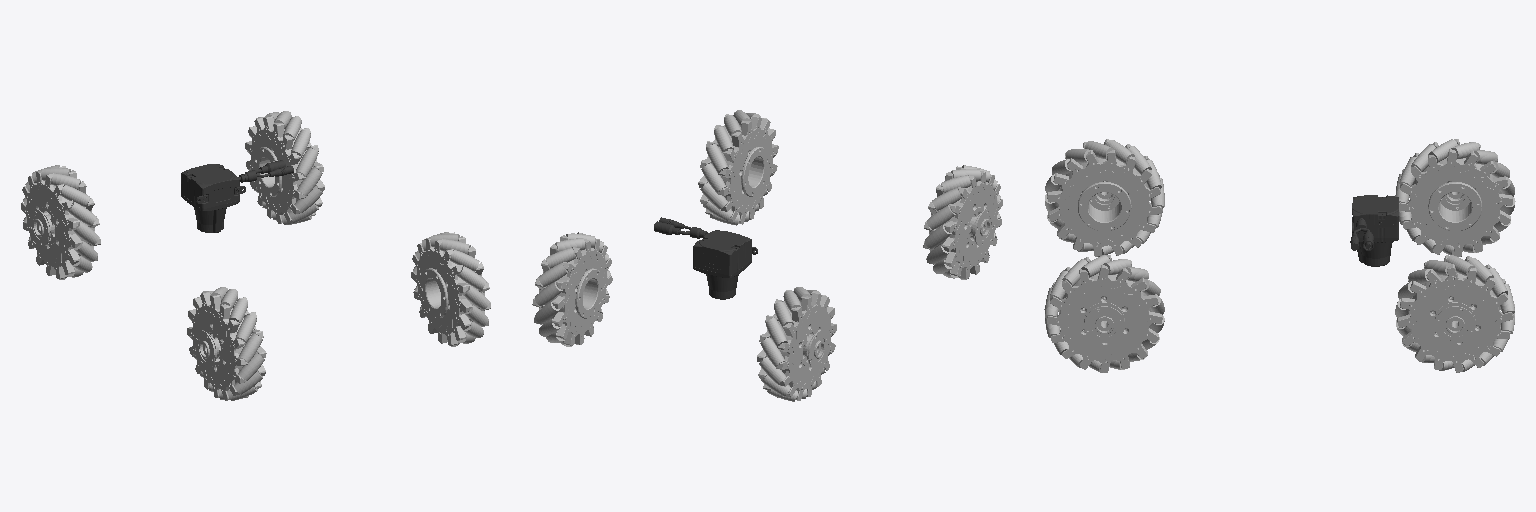
The robot description file, URDF, robot "robot_des":
<?xml version="1.0" encoding="utf-8"?>
<!-- This URDF was automatically created by SolidWorks to URDF Exporter! Originally created by [author] ([email redacted]) 
     Commit Version: 1.6.0-4-g7f85cfe  Build Version: 1.6.7995.38578
     For more information, please see http://wiki.ros.org/sw_urdf_exporter -->
<robot
  name="robot_des">
  
  <link
    name="base_link">
    <inertial>
      <origin
        xyz="-0.000428130552795045 -0.021915627601754 0.2"
        rpy="0 0 0" />
      <mass
        value="4.68126788295179" />
      <inertia
        ixx="0.0145873193919006"
        ixy="-6.80283507311823E-06"
        ixz="3.04984884541059E-07"
        iyy="0.0124505441321933"
        iyz="-1.59907342304969E-06"
        izz="0.0234128160904748" />
    </inertial>
    <visual>
      <origin
        xyz="0 0 0"
        rpy="0 0 0" />
      <geometry>
        <mesh
          filename="package://robot_des/meshes/base_link.STL" />
      </geometry>
      <material
        name="">
        <color
          rgba="0.752941176470588 0.752941176470588 0.752941176470588 1" />
      </material>
    </visual>
    <collision>
      <origin
        xyz="0 0 0"
        rpy="0 0 0" />
      <geometry>
        <mesh
          filename="package://robot_des/meshes/base_link.STL" />
      </geometry>
    </collision>
  </link>
  <link
    name="br_Link">
    <inertial>
      <origin
        xyz="-0.020848 -3.9989E-05 2.0411E-05"
        rpy="0 0 0" />
      <mass
        value="0.56255" />
      <inertia
        ixx="0.00080273"
        ixy="1.1803E-11"
        ixz="-1.5327E-11"
        iyy="0.0004545"
        iyz="-5.0114E-08"
        izz="0.00045447" />
    </inertial>
    <visual>
      <origin
        xyz="0 0 0"
        rpy="0 0 0" />
      <geometry>
        <mesh
          filename="package://robot_des/meshes/br_Link.STL" />
      </geometry>
      <material
        name="">
        <color
          rgba="0.75294 0.75294 0.75294 1" />
      </material>
    </visual>
    <collision>
      <origin
        xyz="0 0 0"
        rpy="0 0 0" />
      <geometry>
        <mesh
          filename="package://robot_des/meshes/br_Link.STL" />
      </geometry>
    </collision>
  </link>
  <joint
    name="br_Joint"
    type="continuous">
    <origin
      xyz="0.196 -0.22435 -0.088559"
      rpy="0 0 0" />
    <parent
      link="base_link" />
    <child
      link="br_Link" />
    <axis
      xyz="-1 0 0" />
  </joint>
  <link
    name="bl_Link">
    <inertial>
      <origin
        xyz="0.020846 7.6231E-06 4.4129E-05"
        rpy="0 0 0" />
      <mass
        value="0.55331" />
      <inertia
        ixx="0.00080295"
        ixy="1.0192E-11"
        ixz="-2.7175E-12"
        iyy="0.00045391"
        iyz="1.078E-08"
        izz="0.00045401" />
    </inertial>
    <visual>
      <origin
        xyz="0 0 0"
        rpy="0 0 0" />
      <geometry>
        <mesh
          filename="package://robot_des/meshes/bl_Link.STL" />
      </geometry>
      <material
        name="">
        <color
          rgba="0.75294 0.75294 0.75294 1" />
      </material>
    </visual>
    <collision>
      <origin
        xyz="0 0 0"
        rpy="0 0 0" />
      <geometry>
        <mesh
          filename="package://robot_des/meshes/bl_Link.STL" />
      </geometry>
    </collision>
  </link>
  <joint
    name="bl_Joint"
    type="continuous">
    <origin
      xyz="-0.1955 -0.22436 -0.088723"
      rpy="0 0 0" />
    <parent
      link="base_link" />
    <child
      link="bl_Link" />
    <axis
      xyz="-1 0 0" />
  </joint>
  <link
    name="fl_Link">
    <inertial>
      <origin
        xyz="0.0208481813735867 3.99885874501349E-05 2.04113600184366E-05"
        rpy="0 0 0" />
      <mass
        value="0.56254578668872" />
      <inertia
        ixx="0.000802726596049636"
        ixy="1.18500278027883E-11"
        ixz="1.53838222395849E-11"
        iyy="0.000454501228594865"
        iyz="5.01136294840854E-08"
        izz="0.000454465356701135" />
    </inertial>
    <visual>
      <origin
        xyz="0 0 0"
        rpy="0 0 0" />
      <geometry>
        <mesh
          filename="package://robot_des/meshes/fl_Link.STL" />
      </geometry>
      <material
        name="">
        <color
          rgba="0.752941176470588 0.752941176470588 0.752941176470588 1" />
      </material>
    </visual>
    <collision>
      <origin
        xyz="0 0 0"
        rpy="0 0 0" />
      <geometry>
        <mesh
          filename="package://robot_des/meshes/fl_Link.STL" />
      </geometry>
    </collision>
  </link>
  <joint
    name="fl_Joint"
    type="continuous">
    <origin
      xyz="-0.1955 0.22435 -0.088559"
      rpy="0 0 0" />
    <parent
      link="base_link" />
    <child
      link="fl_Link" />
    <axis
      xyz="-1 0 0" />
  </joint>
  <link
    name="fr_Link">
    <inertial>
      <origin
        xyz="-0.020846 -7.6231E-06 4.4129E-05"
        rpy="0 0 0" />
      <mass
        value="0.55331" />
      <inertia
        ixx="0.00080295"
        ixy="1.0157E-11"
        ixz="2.7635E-12"
        iyy="0.00045391"
        iyz="-1.078E-08"
        izz="0.00045401" />
    </inertial>
    <visual>
      <origin
        xyz="0 0 0"
        rpy="0 0 0" />
      <geometry>
        <mesh
          filename="package://robot_des/meshes/fr_Link.STL" />
      </geometry>
      <material
        name="">
        <color
          rgba="0.75294 0.75294 0.75294 1" />
      </material>
    </visual>
    <collision>
      <origin
        xyz="0 0 0"
        rpy="0 0 0" />
      <geometry>
        <mesh
          filename="package://robot_des/meshes/fr_Link.STL" />
      </geometry>
    </collision>
  </link>
  <joint
    name="fr_Joint"
    type="continuous">
    <origin
      xyz="0.1955 0.22436 -0.088723"
      rpy="0 0 0" />
    <parent
      link="base_link" />
    <child
      link="fr_Link" />
    <axis
      xyz="-1 0 0" />
  </joint>
  <link
    name="Laser_Link">
    <inertial>
      <origin
        xyz="0.015522 -0.0055646 0.017092"
        rpy="0 0 0" />
      <mass
        value="0.05542" />
      <inertia
        ixx="2.3939E-05"
        ixy="-9.4643E-08"
        ixz="-4.9424E-08"
        iyy="2.4757E-05"
        iyz="-3.542E-08"
        izz="3.5106E-05" />
    </inertial>
    <visual>
      <origin
        xyz="0 0 0"
        rpy="0 0 0" />
      <geometry>
        <mesh
          filename="package://robot_des/meshes/Laser_Link.STL" />
      </geometry>
      <material
        name="">
        <color
          rgba="0.29412 0.29412 0.29412 1" />
      </material>
    </visual>
    <collision>
      <origin
        xyz="0 0 0"
        rpy="0 0 0" />
      <geometry>
        <mesh
          filename="package://robot_des/meshes/Laser_Link.STL" />
      </geometry>
    </collision>
  </link>
  <joint
    name="Laser_Joint"
    type="fixed">
    <origin
      xyz="0 0.12413 -0.0564"
      rpy="0 0 0" />
    <parent
      link="base_link" />
    <child
      link="Laser_Link" />
    <axis
      xyz="0 0 0" />
  </joint>
  <link
    name="yuntai_Link">
    <inertial>
      <origin
        xyz="0.0083948 -0.0058886 0.13583"
        rpy="0 0 0" />
      <mass
        value="3.181" />
      <inertia
        ixx="0.002496"
        ixy="0.00022558"
        ixz="0.00018923"
        iyy="0.0038292"
        iyz="-3.2189E-05"
        izz="0.0042073" />
    </inertial>
    <visual>
      <origin
        xyz="0 0 0"
        rpy="0 0 0" />
      <geometry>
        <mesh
          filename="package://robot_des/meshes/yuntai_Link.STL" />
      </geometry>
      <material
        name="">
        <color
          rgba="0.75294 0.75294 0.75294 1" />
      </material>
    </visual>
    <collision>
      <origin
        xyz="0 0 0"
        rpy="0 0 0" />
      <geometry>
        <mesh
          filename="package://robot_des/meshes/yuntai_Link.STL" />
      </geometry>
    </collision>
  </link>
  <joint
    name="yuntai_Joint"
    type="continuous">
    <origin
      xyz="0 0 0.07475"
      rpy="0 0 0" />
    <parent
      link="base_link" />
    <child
      link="yuntai_Link" />
    <axis
      xyz="0 0 1" />
  </joint>
</robot>

--- What the picture shows (computed from the rendered views, not written in the file) ---
Views: 3 orthographic renders of the robot side by side, from view 1: azimuth 30°, elevation 25°; view 2: azimuth 150°, elevation 25°; view 3: azimuth 270°, elevation 25°.
Robot: robot_des — 7 links, 6 joints (5 continuous, 1 fixed); root link base_link; default pose: every joint at zero.
Links seen in each view (by area): view 1: fl_Link, br_Link, bl_Link, fr_Link, Laser_Link; view 2: br_Link, bl_Link, fl_Link, fr_Link, Laser_Link; view 3: br_Link, bl_Link, fr_Link, fl_Link, Laser_Link.
Boxes of the visible links, <box> form: fl_Link: <box>21,165,100,279</box>; br_Link: <box>411,232,490,346</box>; bl_Link: <box>187,287,266,400</box>; fr_Link: <box>245,111,324,224</box>; Laser_Link: <box>181,160,293,232</box>; br_Link: <box>698,110,778,225</box>; bl_Link: <box>923,165,1002,279</box>; fl_Link: <box>757,287,836,401</box>; fr_Link: <box>532,232,612,346</box>; Laser_Link: <box>654,217,757,299</box>; br_Link: <box>1044,255,1164,372</box>; bl_Link: <box>1045,139,1164,256</box>; fr_Link: <box>1395,255,1514,372</box>; fl_Link: <box>1395,139,1515,256</box>; Laser_Link: <box>1350,195,1398,266</box>.
Size in the robot's own frame: 0.4225 by 0.6027 by 0.154 metres.
Meshes: 7 distinct files referenced, 5 mesh visuals loaded (5 binary STL); not drawn: 2 (reference not matched to a file when rendering).